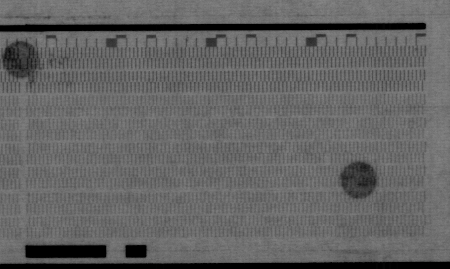Broken hole: (322, 153, 334, 166)
